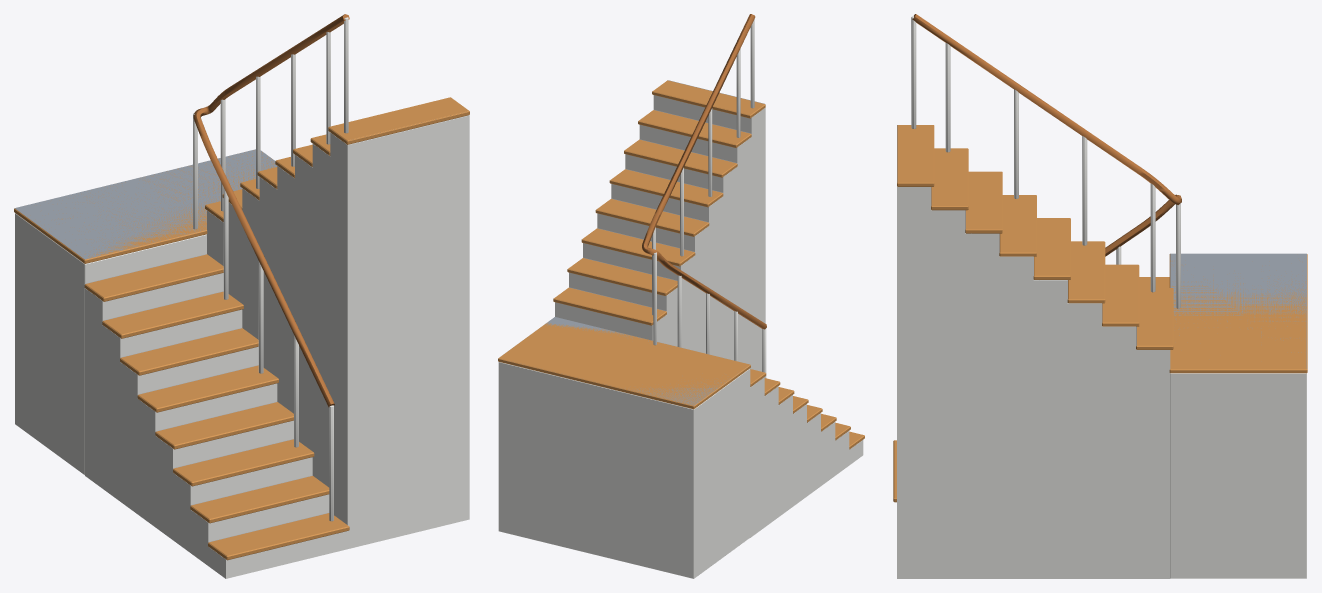
The model's file is escada_u_dir.glb.
3 renders of one model, left to right at view 1: azimuth 30°, elevation 25°; view 2: azimuth 150°, elevation 25°; view 3: azimuth 270°, elevation 25°, orthographic. The views are drawn at different scales.
Parts seen in each view (by area): view 1: escada_u_dir, colisao_malha; view 2: escada_u_dir, colisao_malha; view 3: escada_u_dir, colisao_malha.
Part boxes in pixels (x1,y1,x2,y2): escada_u_dir: [14, 14, 469, 578]; colisao_malha: [15, 115, 450, 542]; escada_u_dir: [498, 14, 864, 578]; colisao_malha: [513, 80, 765, 405]; escada_u_dir: [893, 14, 1307, 578]; colisao_malha: [897, 125, 1306, 368].
Size of the model in its own units: 2.01 by 4.12 by 3.03.
Materials: 1 (1 with a texture image).
